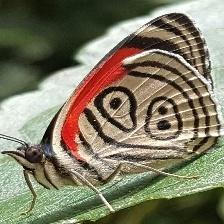butterfly: (2, 13, 221, 194)
